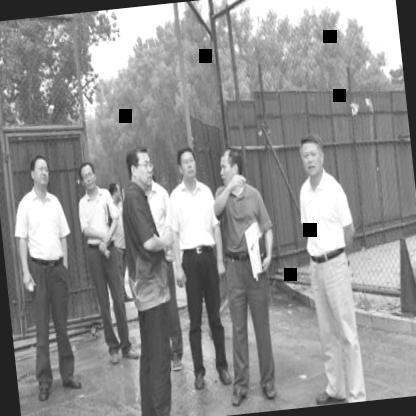head: (294, 130, 327, 184), (126, 142, 156, 191), (216, 144, 243, 185), (27, 153, 52, 194), (175, 144, 200, 184), (76, 160, 98, 194), (106, 178, 124, 210)
